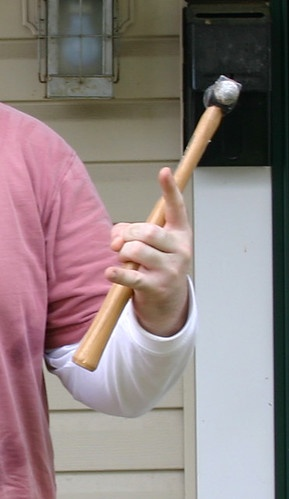hammer: (67, 73, 243, 376)
